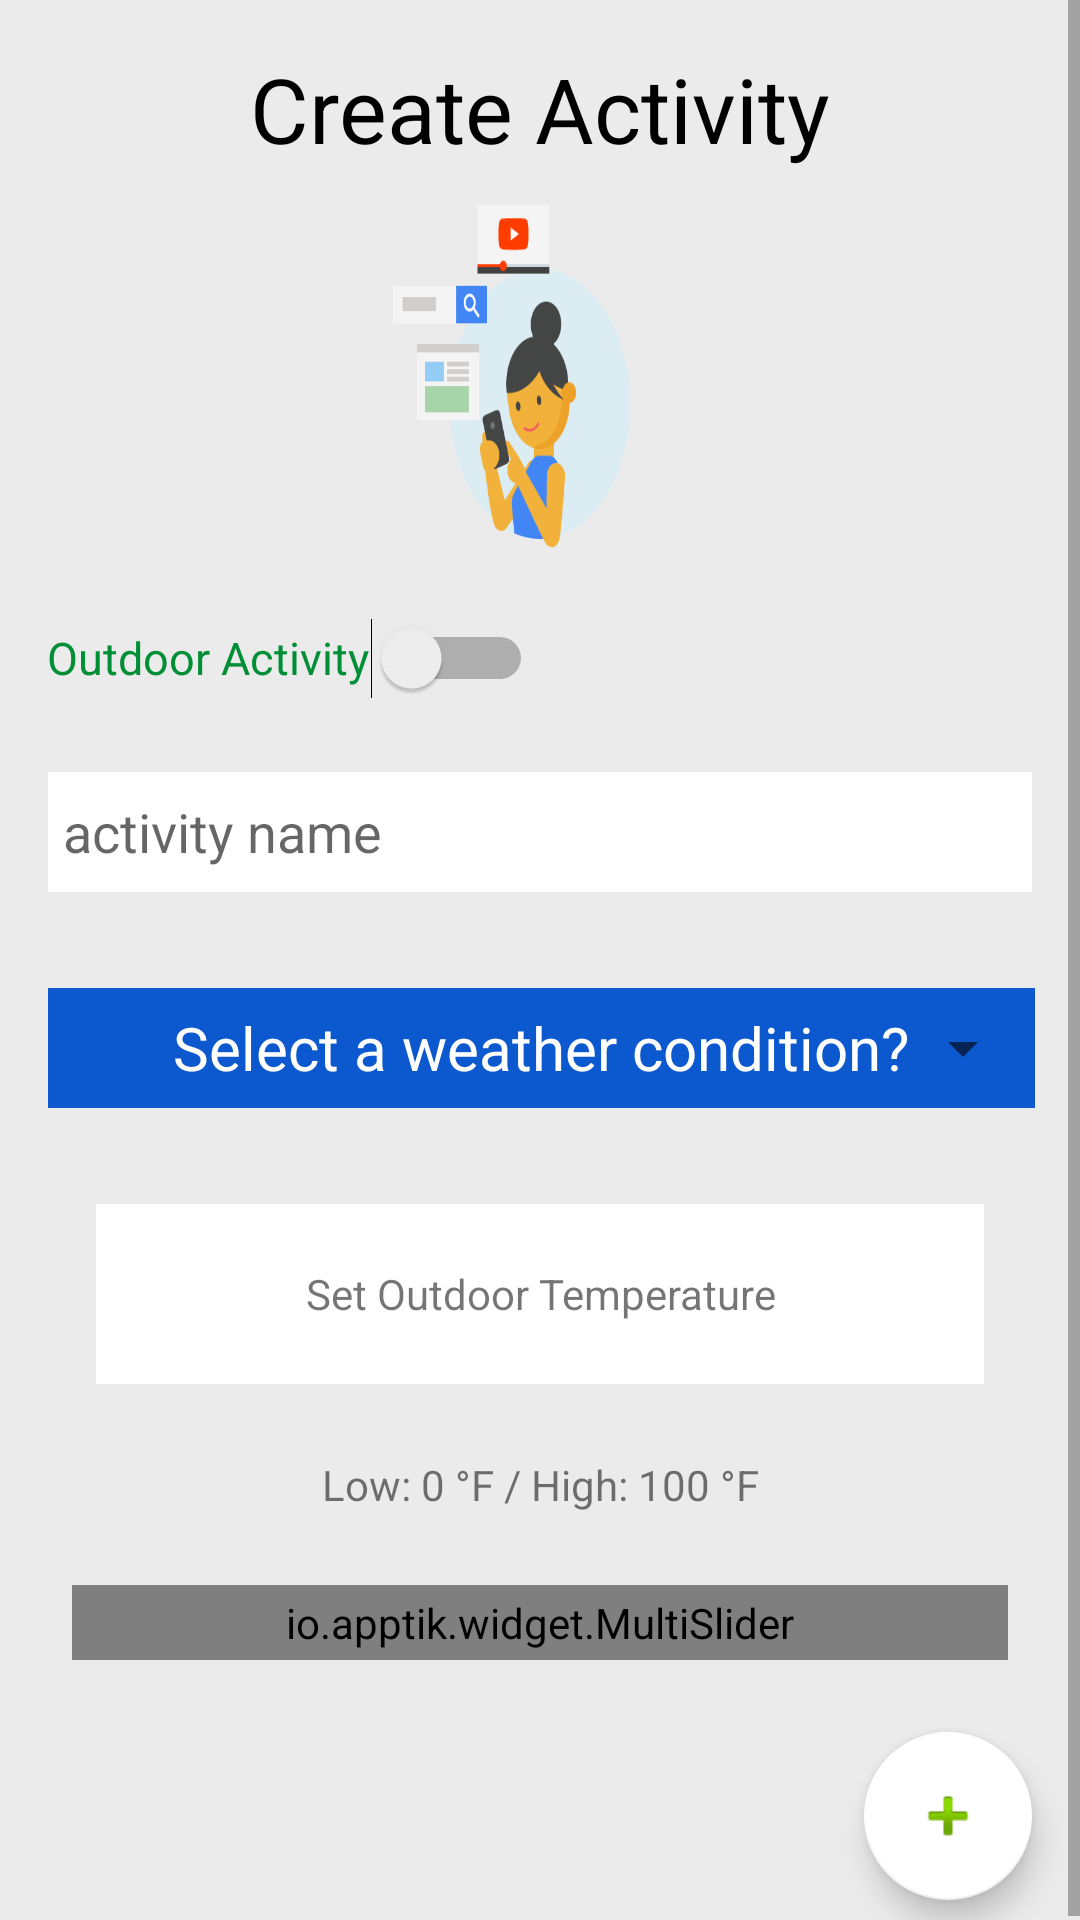

Locate icon controls on the screen. Image size 1080x1920, boxes as [left=x1, top=y1, right=x2, bottom=y2].
add: [left=864, top=1732, right=1032, bottom=1900]
